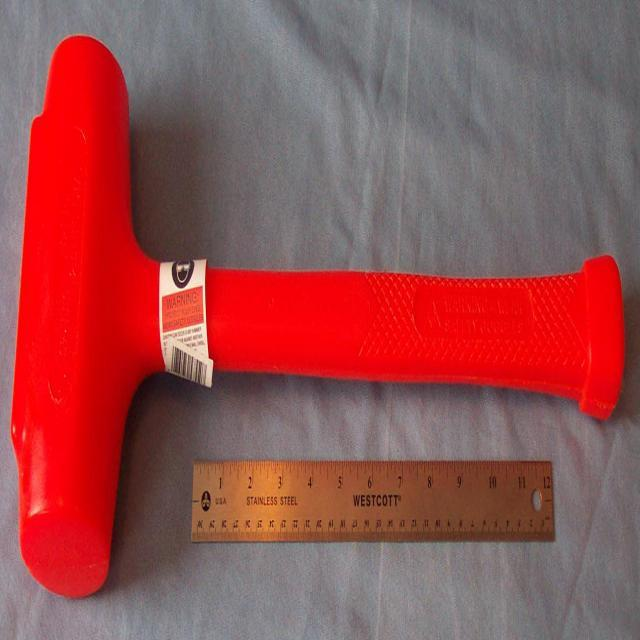hammer: (3, 0, 624, 615)
